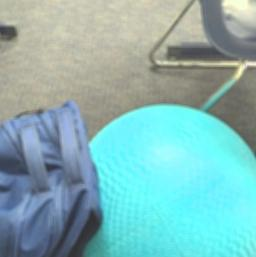algae: (80, 103, 256, 257)
